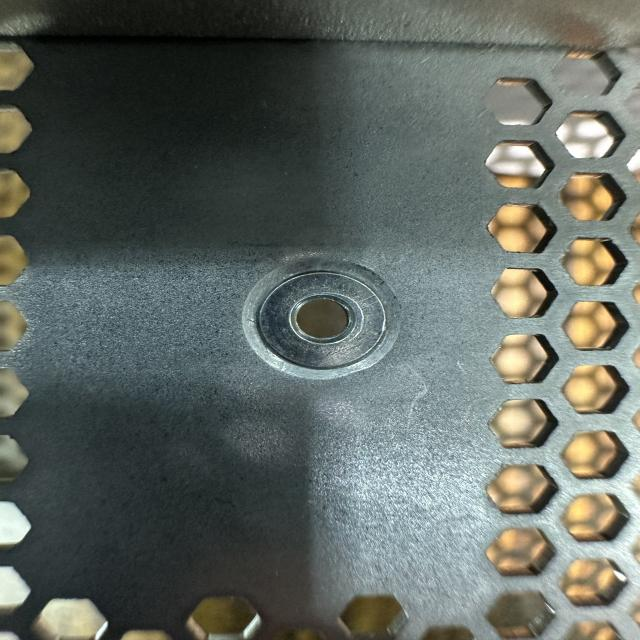Missing screw: (210, 242, 422, 388)
